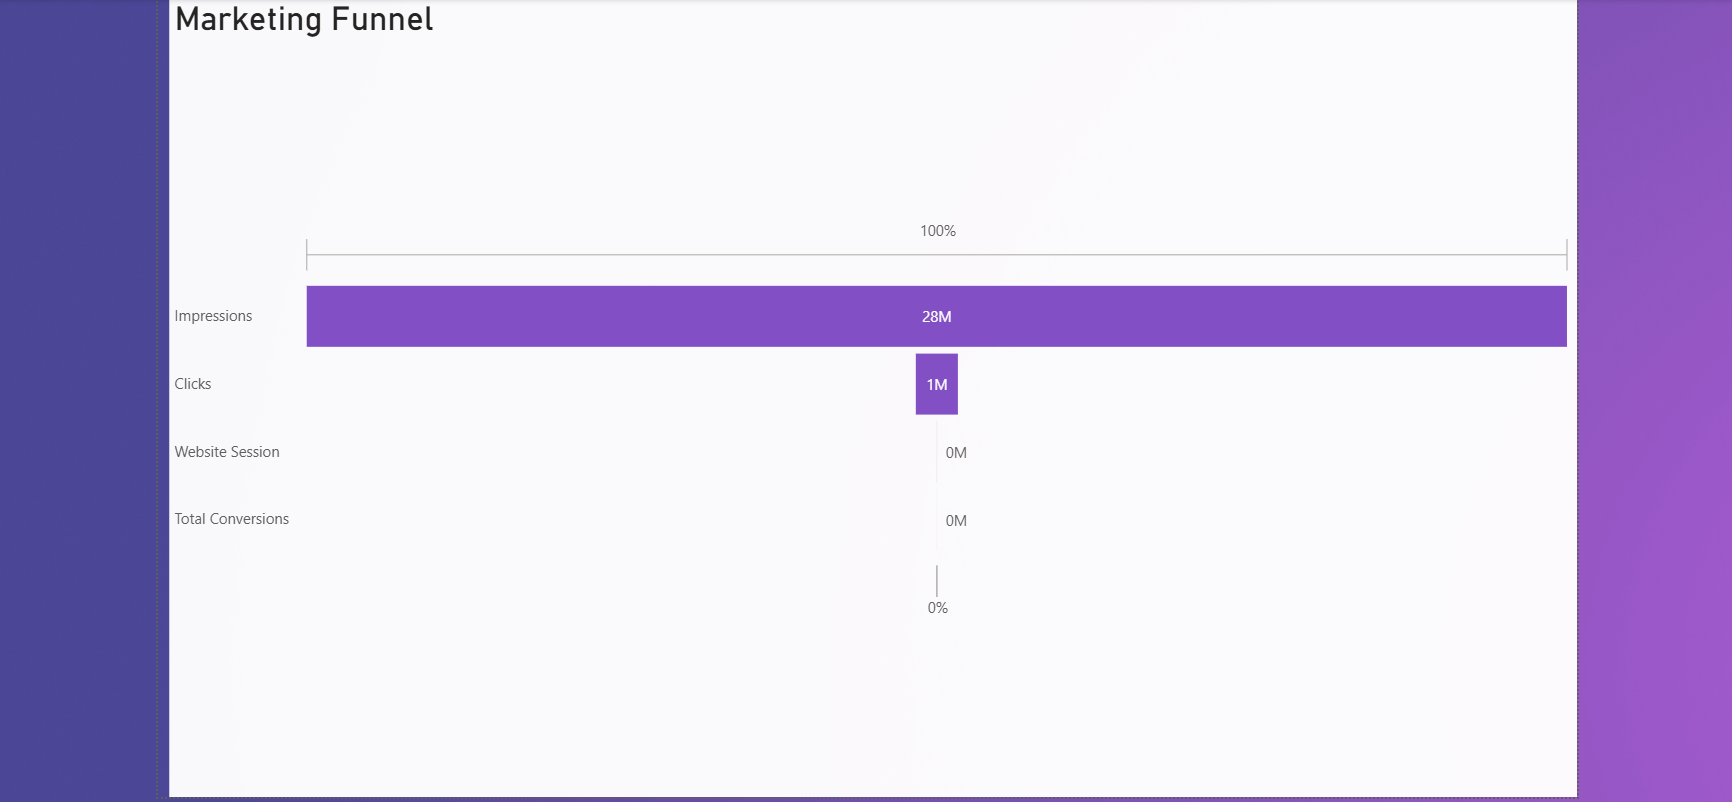

The page's visual inventory and layout, read from the dashboard file:
{"tool":"powerbi","page":{"name":"Marketing Funnel","canvas":[1280,720],"ordinal":2},"visuals":[{"type":"funnel","title":"Marketing Funnel","fields":{"Y":["Sum(ad_spend_data.impressions)","Sum(ad_spend_data.clicks)","web_analytics_log.Website Visitors","crm_conversion_data.Total Conversions"]},"box":[9.8,0,1270.5,720.2],"z":0}]}

Visuals, with their boxes on the page's 1280x720 design canvas (x1, y1, x2, y2). These are canvas units, not pixel positions in the 1732x802 screenshot, which may show the page scaled, cropped or inside an application window:
"Marketing Funnel" funnel: 10/0/1280/720
